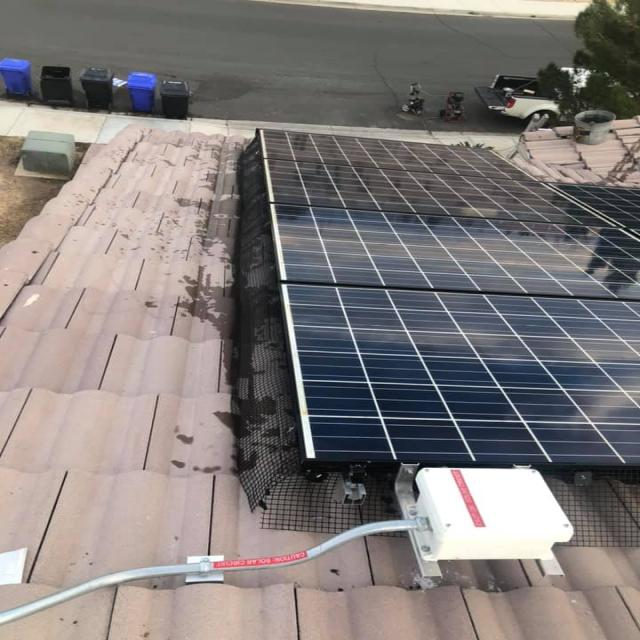clean-solar-panel: (238, 130, 638, 468)
